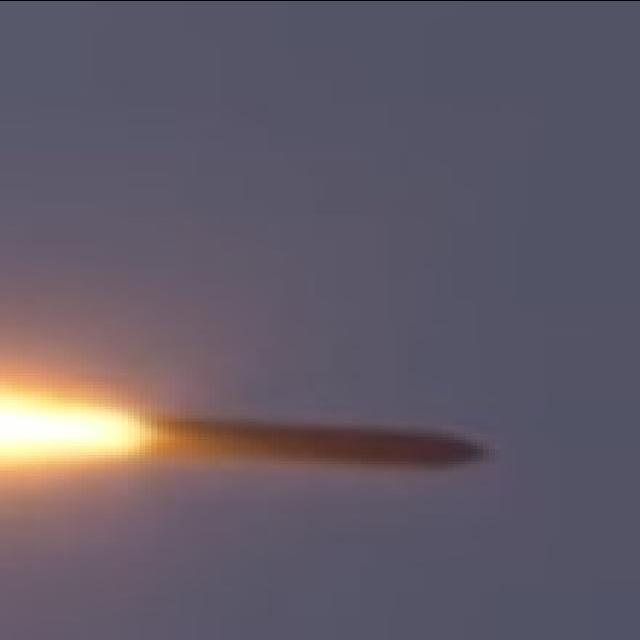Missile: (139, 409, 499, 476)
